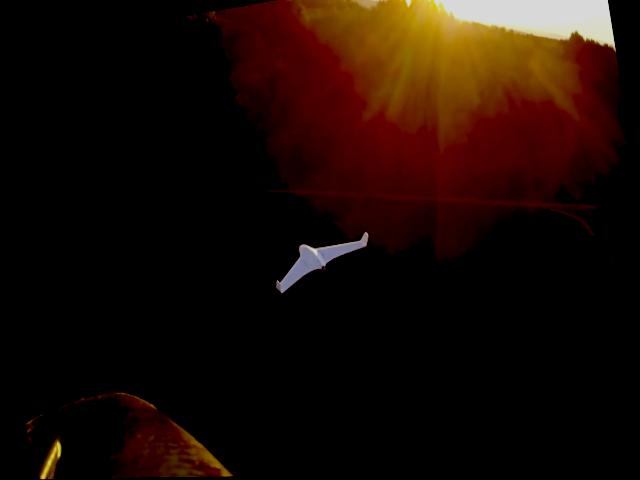plane: (270, 233, 376, 295)
